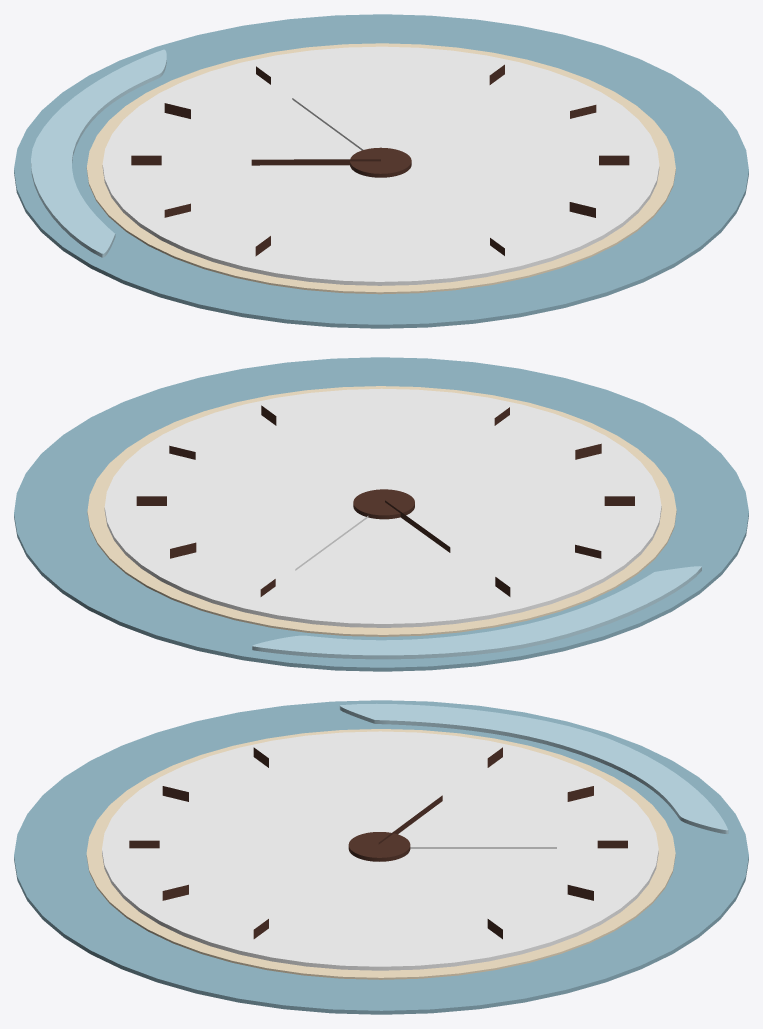
Rendered from emoji_u1f559.glb.
3 renders of one model, top to bottom at view 1: azimuth 30°, elevation 25°; view 2: azimuth 150°, elevation 25°; view 3: azimuth 270°, elevation 25°, orthographic.
Parts seen in each view (by area): view 1: emoji_u1f559; view 2: emoji_u1f559; view 3: emoji_u1f559.
Part boxes in pixels (x1=…): emoji_u1f559: x1=14, y1=14, x2=748, y2=328; emoji_u1f559: x1=14, y1=357, x2=748, y2=671; emoji_u1f559: x1=14, y1=700, x2=748, y2=1014.
Size of the model in its own units: 0.0339 by 0.0018 by 0.0339.
